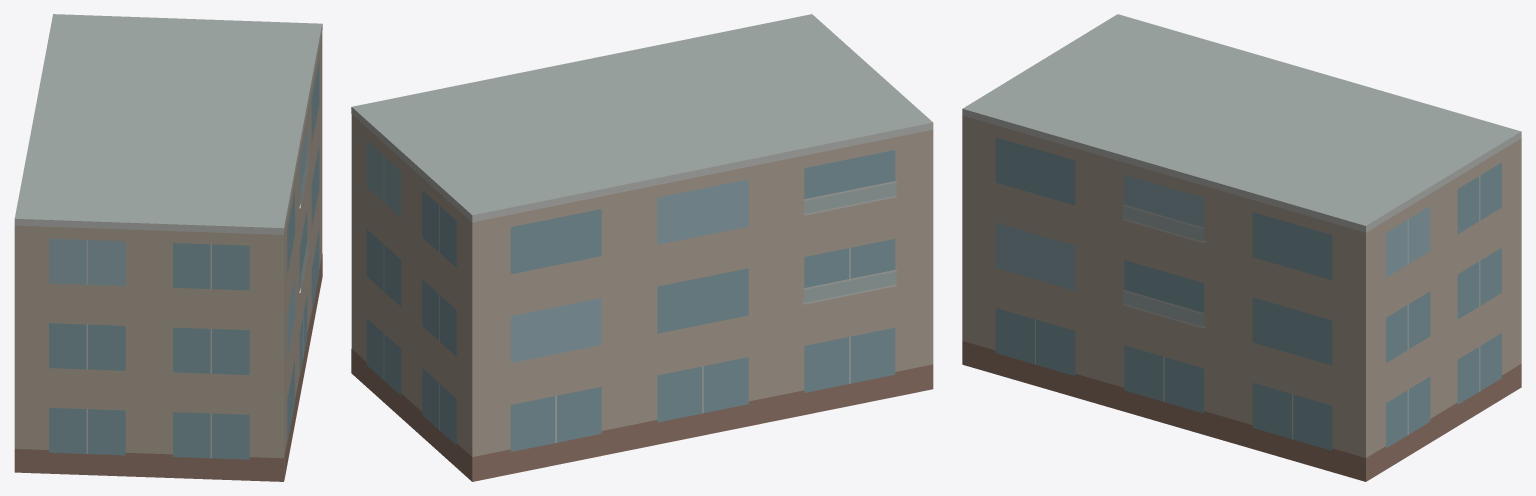
Rendered from survey-upis-32704759.glb.
3 views of the same model, side by side, from view 1: azimuth 30°, elevation 25°; view 2: azimuth 150°, elevation 25°; view 3: azimuth 270°, elevation 25° (orthographic). The views are drawn at different scales.
Parts seen in each view (by area): view 1: survey-upis-32704759.tmp; view 2: survey-upis-32704759.tmp; view 3: survey-upis-32704759.tmp.
Boxes of the visible parts, x1,y1,x2,y2 form: survey-upis-32704759.tmp: (14, 14, 322, 481); survey-upis-32704759.tmp: (351, 14, 933, 481); survey-upis-32704759.tmp: (962, 14, 1521, 481).
Bounding box in the file's own units: 16.27 × 9.15 × 18.13.
